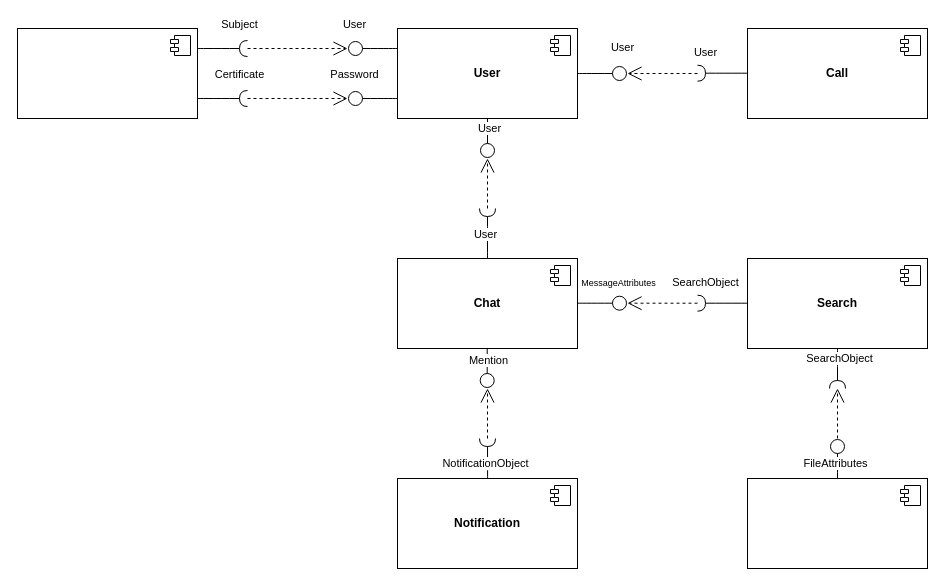
This 945x586 diagram has some shape labels left out. The shapes that lost their labels are listed below. From the top down, each one's centre as x and y in pixels, then its label:
point (107, 73): Authentication
point (837, 523): Media
